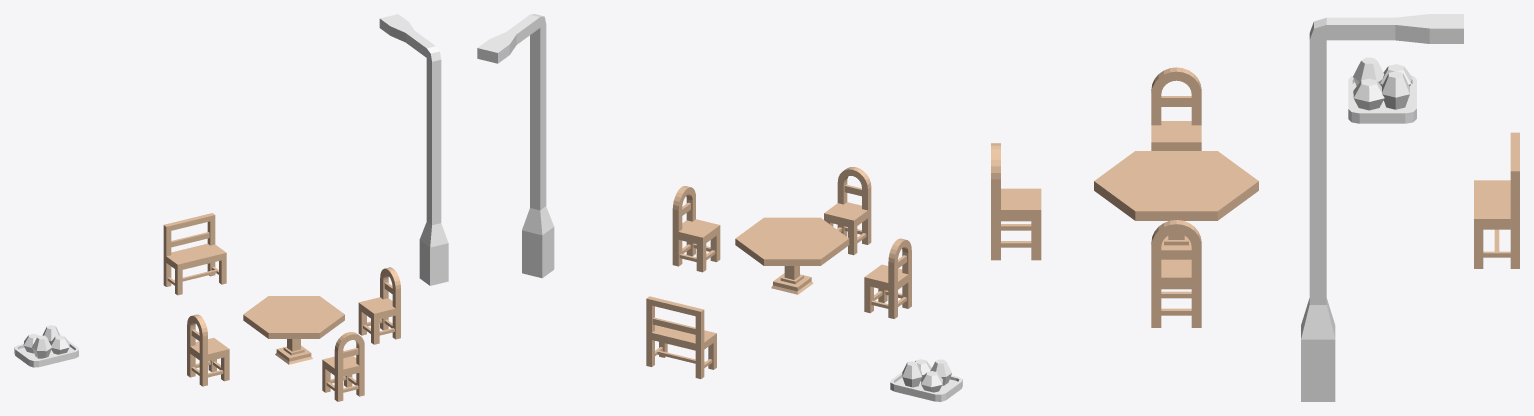
File: combo-elderly-activity-corner.glb
The picture shows the model from 3 angles, left to right: view 1: azimuth 30°, elevation 25°; view 2: azimuth 150°, elevation 25°; view 3: azimuth 270°, elevation 25°; orthographic projection. The views are drawn at different scales.
Visible parts, largest first — view 1: 06_asset-035, 00_asset-003, 04_asset-001, 02_asset-025, 03_asset-025, 01_asset-025, 05_asset-045; view 2: 06_asset-035, 00_asset-003, 04_asset-001, 02_asset-025, 01_asset-025, 03_asset-025, 05_asset-045; view 3: 06_asset-035, 00_asset-003, 02_asset-025, 05_asset-045, 04_asset-001, 03_asset-025, 01_asset-025.
Part boxes in pixels (left/top/right/bottom): 06_asset-035: left=379, top=14, right=448, bottom=285; 00_asset-003: left=243, top=296, right=344, bottom=364; 04_asset-001: left=163, top=213, right=226, bottom=295; 02_asset-025: left=358, top=267, right=400, bottom=344; 03_asset-025: left=322, top=332, right=364, bottom=401; 01_asset-025: left=187, top=314, right=229, bottom=386; 05_asset-045: left=14, top=325, right=78, bottom=367; 06_asset-035: left=477, top=14, right=554, bottom=278; 00_asset-003: left=735, top=217, right=849, bottom=294; 04_asset-001: left=646, top=296, right=716, bottom=378; 02_asset-025: left=672, top=186, right=720, bottom=272; 01_asset-025: left=864, top=238, right=911, bottom=318; 03_asset-025: left=824, top=167, right=871, bottom=255; 05_asset-045: left=890, top=359, right=962, bottom=401; 06_asset-035: left=1301, top=14, right=1463, bottom=401; 00_asset-003: left=1094, top=151, right=1258, bottom=248; 02_asset-025: left=1151, top=220, right=1201, bottom=327; 05_asset-045: left=1348, top=57, right=1416, bottom=123; 04_asset-001: left=1474, top=132, right=1519, bottom=268; 03_asset-025: left=991, top=143, right=1041, bottom=260; 01_asset-025: left=1151, top=67, right=1201, bottom=150.
Size of the model in its own units: 6.55 by 3.6 by 4.62.
